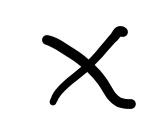mult: (42, 25, 134, 108)
